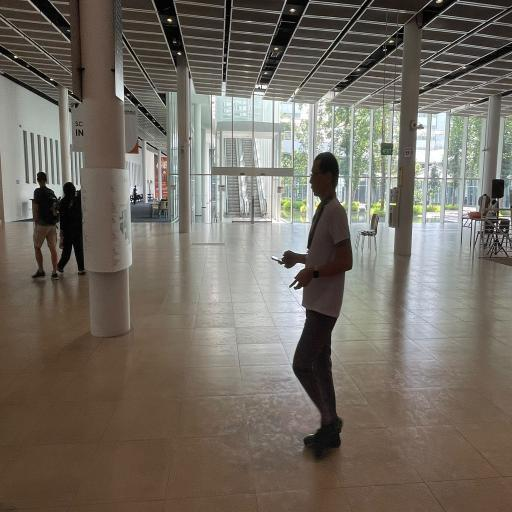person_left: (294, 144, 356, 462)
person_right: (57, 182, 86, 274)
